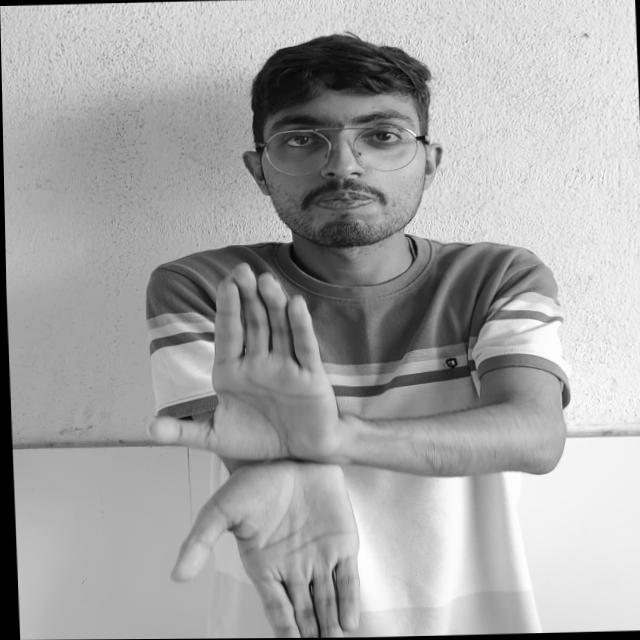Morning: (93, 247, 416, 639)
